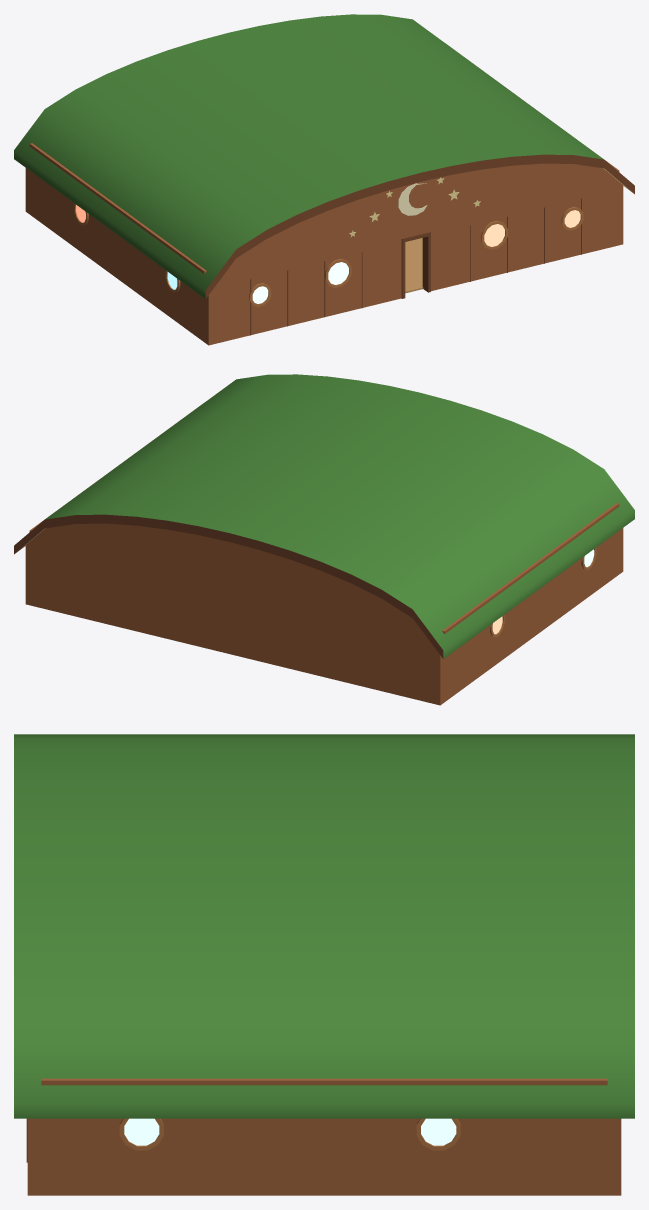
The model's file is night_house.glb.
3 views of the same model, one above another, from view 1: azimuth 30°, elevation 25°; view 2: azimuth 150°, elevation 25°; view 3: azimuth 270°, elevation 25° (orthographic). The views are drawn at different scales.
Visible parts, largest first — view 1: roof, walls_upper, night_house; view 2: roof, walls_upper, night_house; view 3: roof, walls_upper, night_house.
Boxes of the visible parts, left/top/right/bottom form: roof: left=14, top=14, right=634, bottom=298; walls_upper: left=25, top=46, right=623, bottom=319; night_house: left=25, top=186, right=623, bottom=345; roof: left=14, top=374, right=634, bottom=658; walls_upper: left=25, top=406, right=623, bottom=679; night_house: left=25, top=546, right=623, bottom=705; roof: left=14, top=734, right=634, bottom=1118; walls_upper: left=26, top=1078, right=621, bottom=1154; night_house: left=26, top=1121, right=621, bottom=1195.
Bounding box in the file's own units: 17.6 × 4.9 × 13.6.
5 materials, 4 textured.
